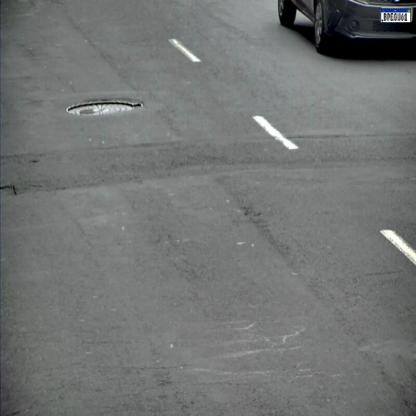PlacaM: (380, 8, 410, 23)
